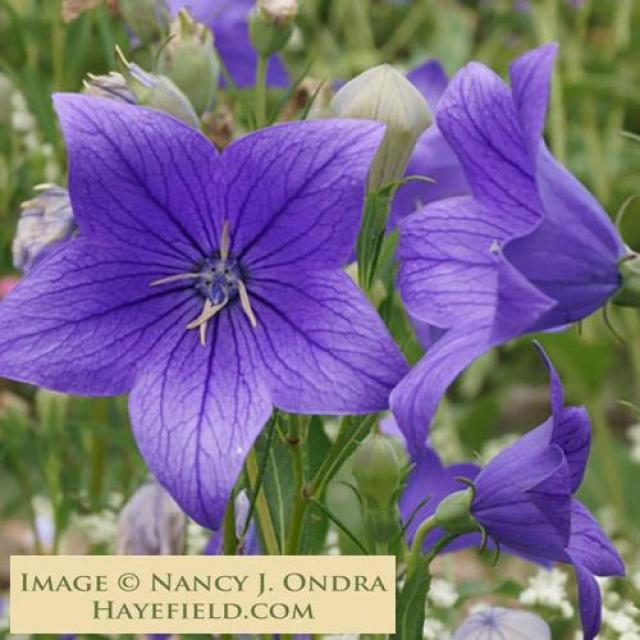organic waste: (1, 90, 424, 515), (378, 37, 630, 342), (428, 341, 622, 623)
